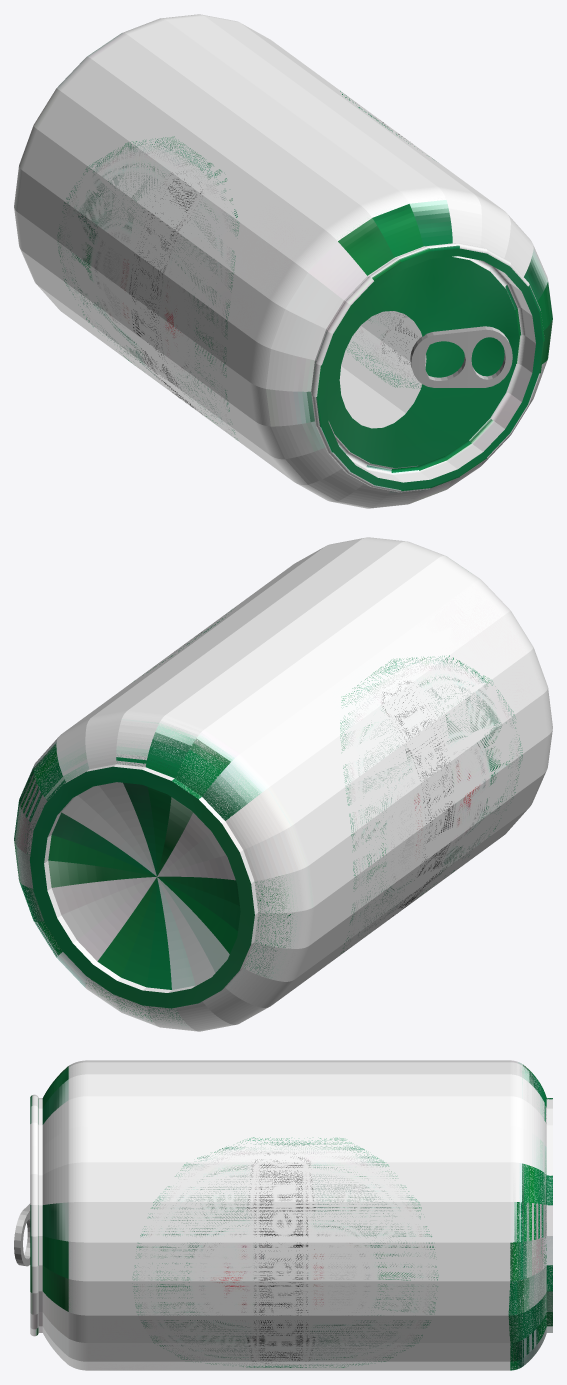
The model's file is heineken_can.dae.
3 views of the same model, one above another, from view 1: azimuth 30°, elevation 25°; view 2: azimuth 150°, elevation 25°; view 3: azimuth 270°, elevation 25° (orthographic). The views are drawn at different scales.
Visible parts, largest first — view 1: node; view 2: node; view 3: node.
Boxes of the visible parts, x1=… form: node: x1=14, y1=14, x2=552, y2=508; node: x1=14, y1=537, x2=552, y2=1031; node: x1=14, y1=1060, x2=552, y2=1370.
Size of the model in its own units: 67.98 by 67.98 by 118.
Materials: 3 (3 with a texture image).
